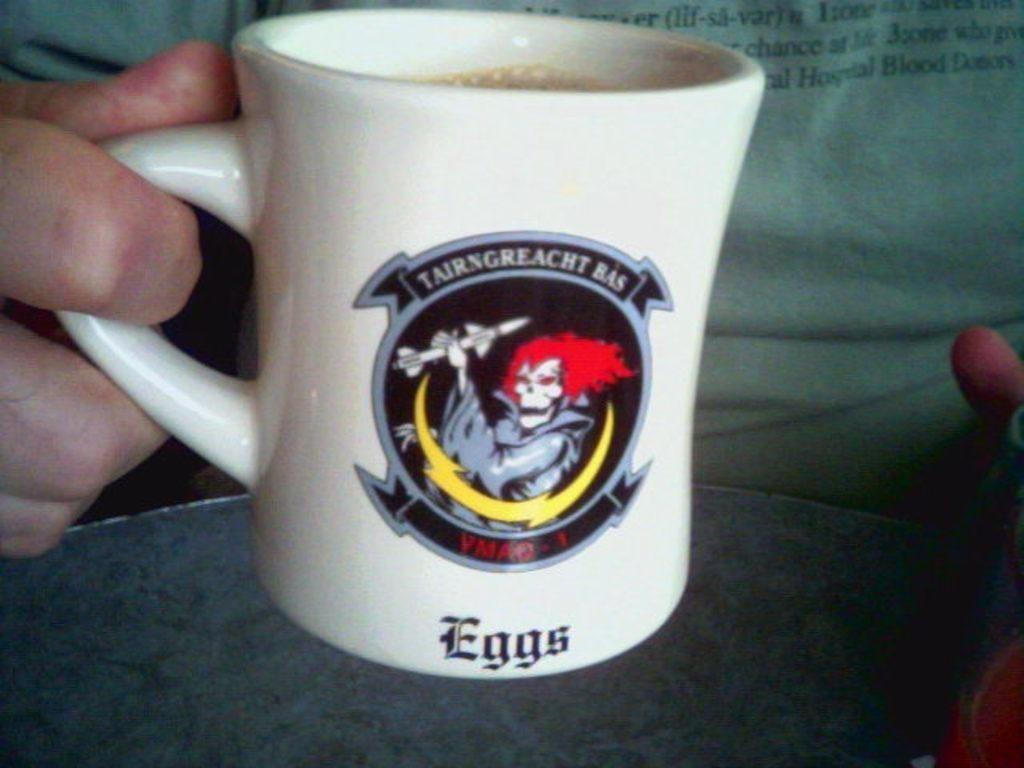cup-handle: (56, 7, 770, 684)
